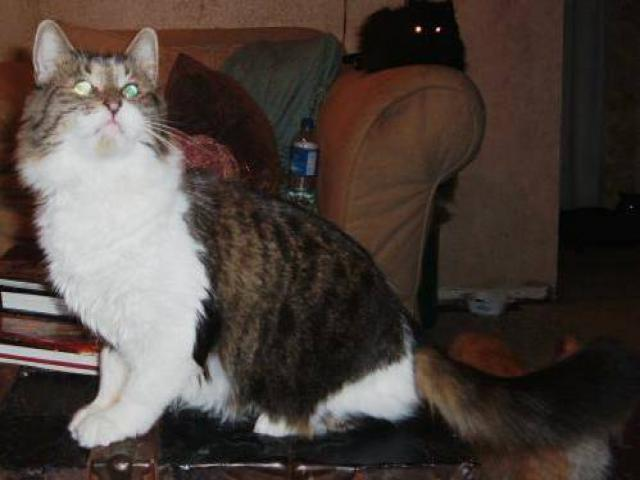cat: (3, 21, 621, 464)
